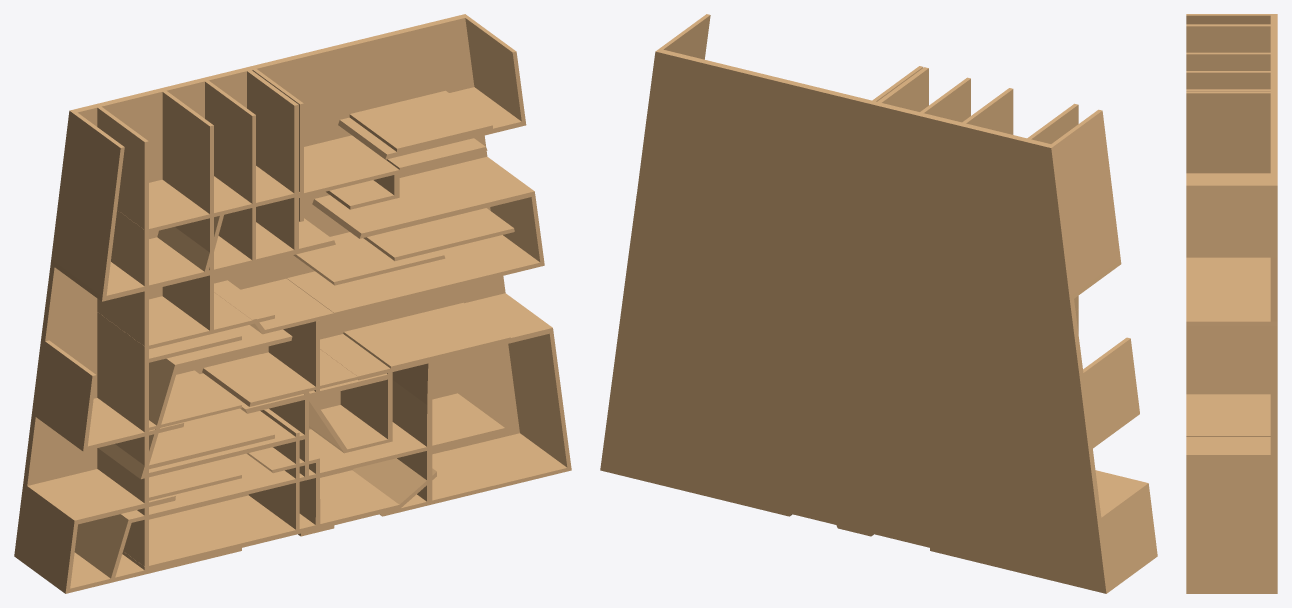
Rendered from MDL_Letter_Shelf_01.fbx.
3 renders of one model, left to right at view 1: azimuth 30°, elevation 25°; view 2: azimuth 150°, elevation 25°; view 3: azimuth 270°, elevation 25°, orthographic. The views are drawn at different scales.
Visible parts, largest first — view 1: MDL_Letter_M_01, MDL_Letter_N_01, MDL_Letter_A_01, MDL_Letter_D_01; view 2: MDL_Letter_M_01, MDL_Letter_A_01, MDL_Letter_D_01, MDL_Letter_N_01; view 3: MDL_Letter_M_01, MDL_Letter_D_01, MDL_Letter_N_01, MDL_Letter_A_01.
Part boxes in pixels (bbox=[...]): MDL_Letter_M_01: bbox=[14, 14, 571, 593]; MDL_Letter_N_01: bbox=[97, 29, 492, 569]; MDL_Letter_A_01: bbox=[74, 46, 523, 578]; MDL_Letter_D_01: bbox=[97, 43, 514, 571]; MDL_Letter_M_01: bbox=[600, 14, 1157, 593]; MDL_Letter_A_01: bbox=[648, 67, 1060, 581]; MDL_Letter_D_01: bbox=[654, 66, 1078, 571]; MDL_Letter_N_01: bbox=[679, 58, 1078, 574]; MDL_Letter_M_01: bbox=[1186, 14, 1277, 593]; MDL_Letter_D_01: bbox=[1186, 52, 1277, 436]; MDL_Letter_N_01: bbox=[1186, 24, 1277, 303]; MDL_Letter_A_01: bbox=[1186, 70, 1277, 183].
Bounding box in the file's own units: 123 × 100 × 21.57.
